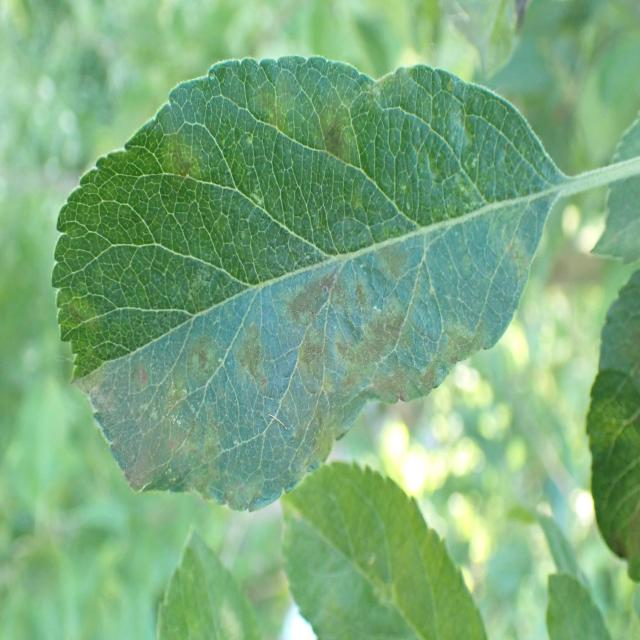scab: (82, 211, 532, 499), (256, 67, 392, 170), (132, 118, 218, 202)
